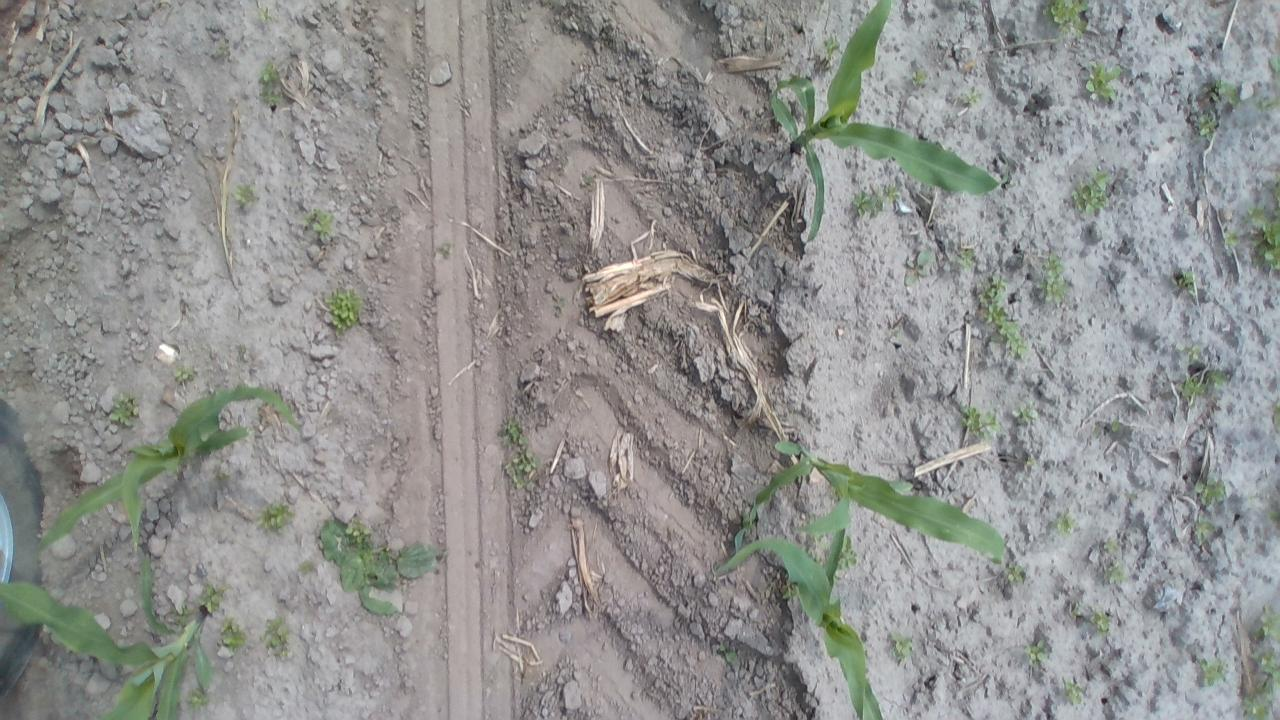Maize: (766, 0, 1009, 244), (30, 381, 308, 560), (714, 427, 1015, 581), (0, 548, 223, 720), (722, 518, 900, 719)
Weeds: (312, 512, 442, 614), (976, 278, 1031, 365), (1236, 649, 1280, 720), (1243, 203, 1280, 274), (322, 284, 367, 335), (1070, 168, 1114, 218), (1176, 365, 1230, 404), (1044, 0, 1094, 39), (1082, 60, 1123, 104), (849, 185, 901, 219), (960, 402, 1003, 443), (1038, 253, 1072, 304), (260, 615, 296, 662), (504, 446, 541, 490), (104, 390, 145, 428), (1201, 75, 1244, 110), (256, 60, 287, 108), (254, 500, 293, 536), (1190, 472, 1228, 508), (218, 618, 250, 658), (1195, 654, 1231, 688), (304, 206, 338, 242), (498, 416, 530, 450), (1020, 632, 1050, 668), (904, 246, 936, 279), (196, 584, 230, 614), (1253, 604, 1277, 646), (887, 629, 916, 663), (834, 541, 862, 576), (1098, 560, 1130, 588), (1194, 106, 1222, 138), (1171, 265, 1200, 295), (1050, 509, 1078, 539), (1060, 677, 1088, 706), (232, 180, 260, 208), (1010, 400, 1040, 426), (1094, 420, 1128, 442), (957, 85, 985, 110), (953, 245, 979, 271), (168, 363, 198, 384), (1194, 512, 1214, 543), (184, 688, 212, 710), (1090, 610, 1114, 635), (819, 35, 840, 63), (716, 641, 740, 665), (1003, 562, 1026, 587), (1065, 596, 1088, 620), (1098, 534, 1122, 556), (1265, 171, 1280, 206), (552, 293, 572, 319), (777, 578, 799, 601), (1221, 223, 1239, 251), (910, 66, 931, 90), (1254, 94, 1278, 115), (435, 239, 457, 261), (1182, 340, 1204, 362), (576, 170, 600, 190), (1264, 500, 1280, 528), (210, 38, 230, 60), (256, 5, 276, 25), (1020, 452, 1040, 472), (295, 560, 316, 578), (1269, 54, 1280, 80)
